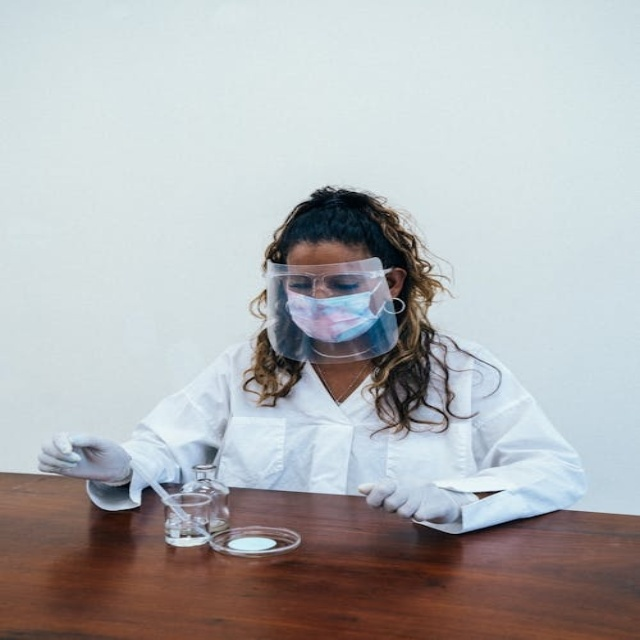Gafas: (263, 260, 394, 294)
Guantes: (37, 431, 134, 485), (357, 477, 467, 523)
Mascara: (279, 286, 383, 343)
